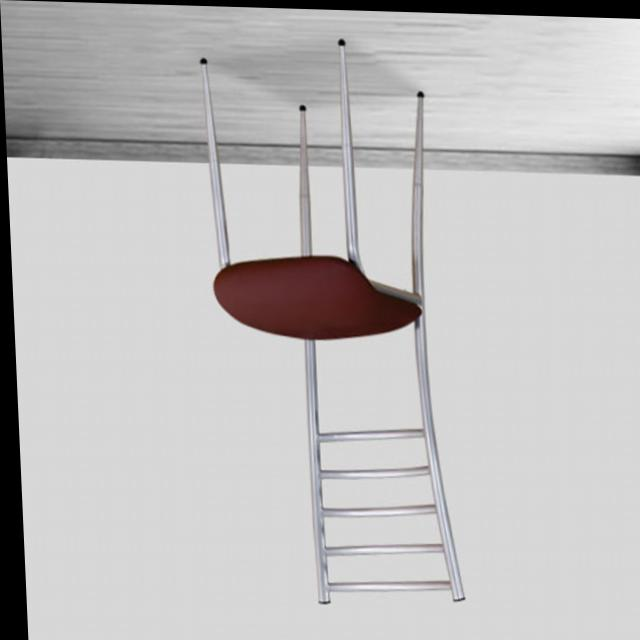Chair: (195, 34, 459, 607)
